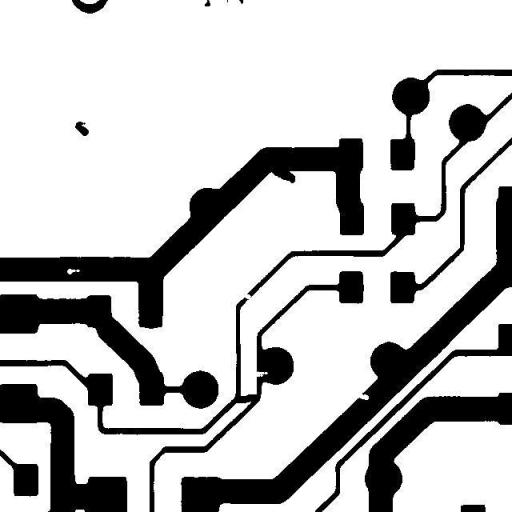copper: (67, 114, 96, 143)
mousebite: (247, 363, 275, 384), (349, 386, 376, 407)
open: (232, 286, 259, 307)
pin-hole: (59, 260, 87, 282)
short: (226, 386, 268, 410)
spur: (264, 161, 302, 190)
